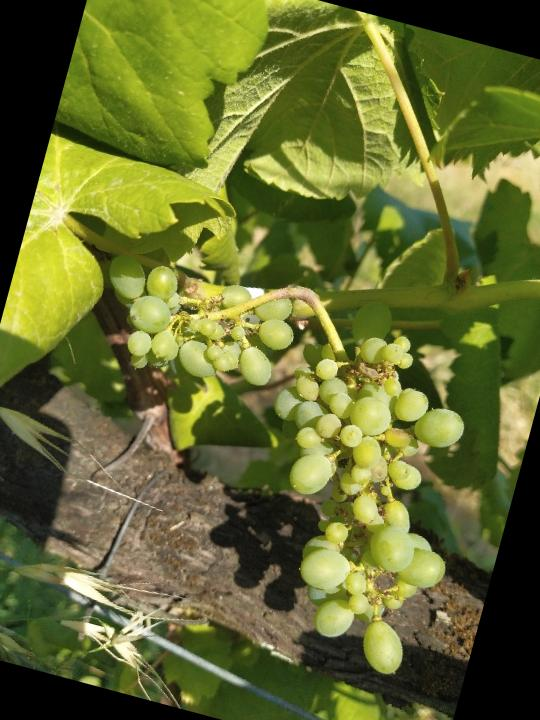grape: (20, 226, 520, 689)
